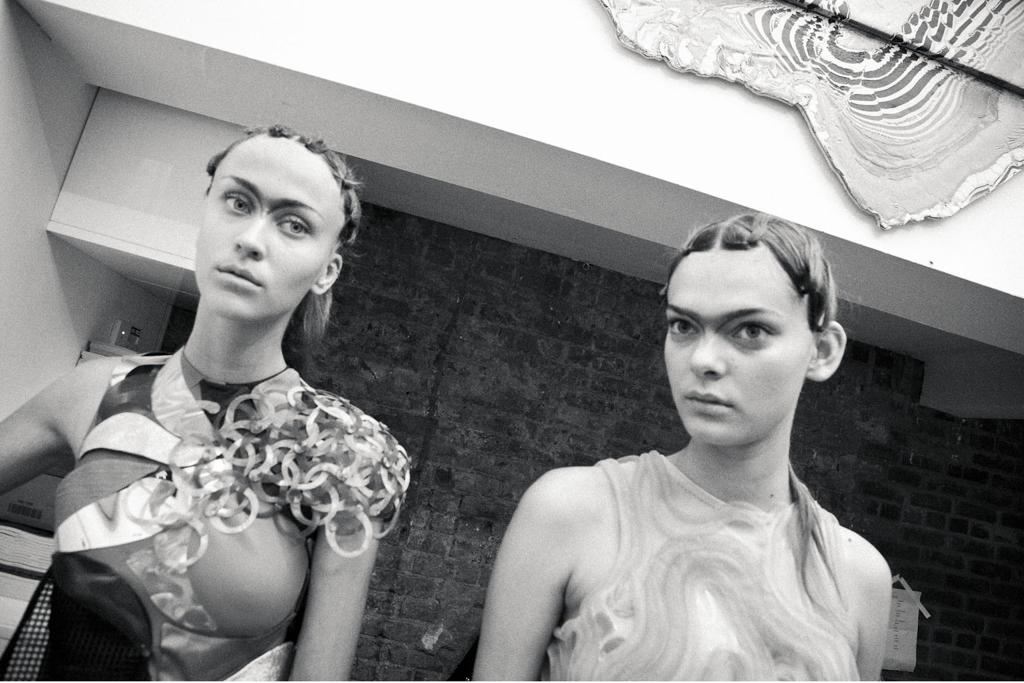face: (666, 248, 812, 448), (198, 134, 336, 320)
